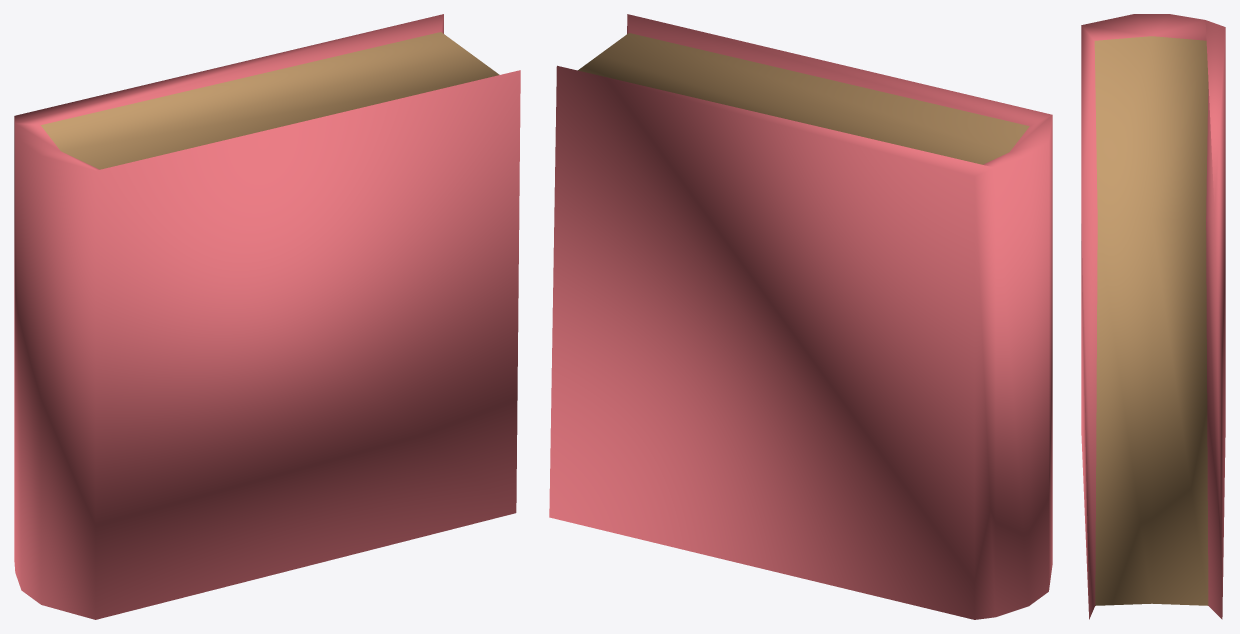
File: book006.fbx
3 renders of one model, left to right at view 1: azimuth 30°, elevation 25°; view 2: azimuth 150°, elevation 25°; view 3: azimuth 270°, elevation 25°, orthographic. The views are drawn at different scales.
Visible parts, largest first — view 1: Book Variation 006; view 2: Book Variation 006; view 3: Book Variation 006.
Boxes of the visible parts, x1,y1,x2,y2 form: Book Variation 006: (14, 14, 520, 619); Book Variation 006: (549, 14, 1052, 619); Book Variation 006: (1081, 14, 1225, 619).
Bounding box in the file's own units: 0.3782 × 0.3604 × 0.1158.
